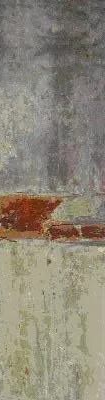Corrosion: (1, 193, 64, 241), (46, 223, 105, 241)
